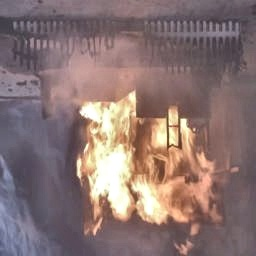fire: (73, 95, 219, 252)
